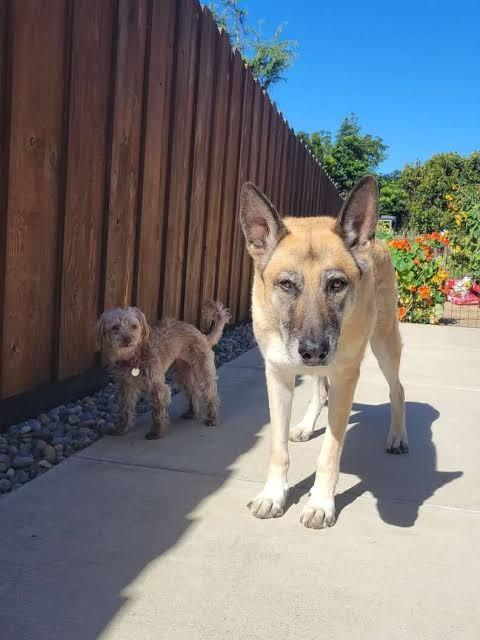adult_dog: (240, 174, 409, 530), (99, 300, 234, 439)
